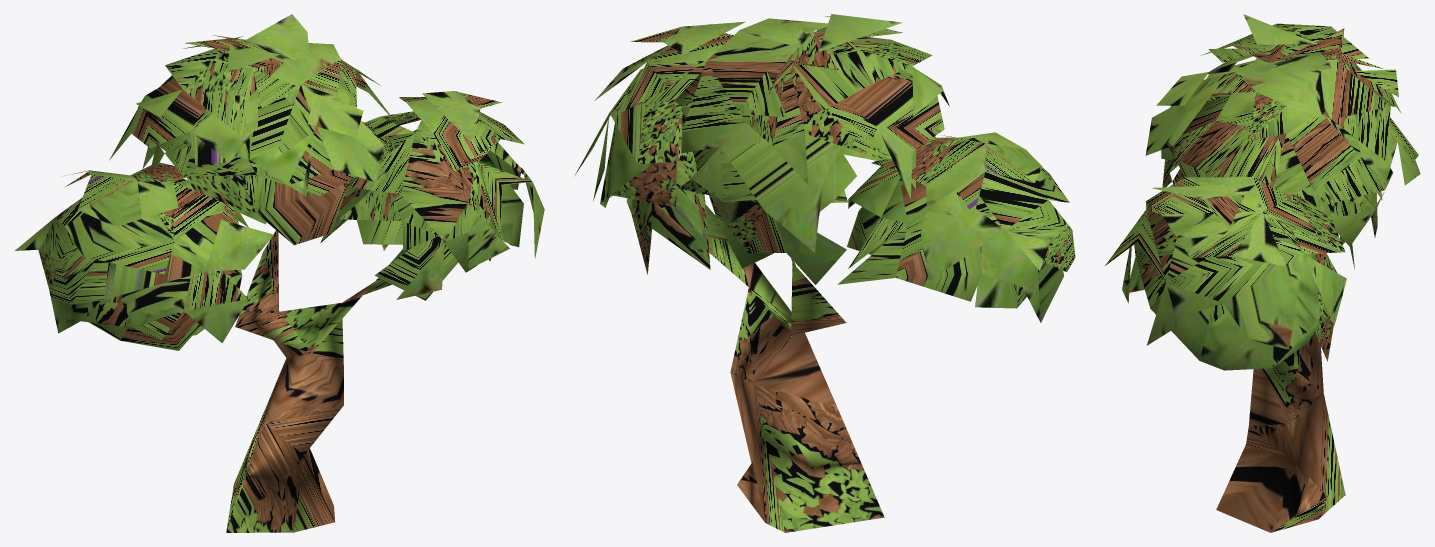
File: fig-far.glb
3 views of the same model, side by side, from view 1: azimuth 30°, elevation 25°; view 2: azimuth 150°, elevation 25°; view 3: azimuth 270°, elevation 25° (orthographic). The views are drawn at different scales.
Parts seen in each view (by area): view 1: geometry_0; view 2: geometry_0; view 3: geometry_0.
Boxes of the visible parts, x1,y1,x2,y2 form: geometry_0: [15, 14, 544, 532]; geometry_0: [575, 14, 1075, 532]; geometry_0: [1105, 14, 1420, 532].
Bounding box in the file's own units: 0.9248 × 0.8975 × 0.5581.
Materials: 1 (1 with a texture image).
